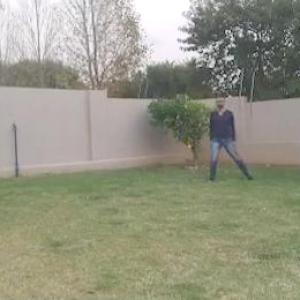follow: (211, 92, 233, 181)
